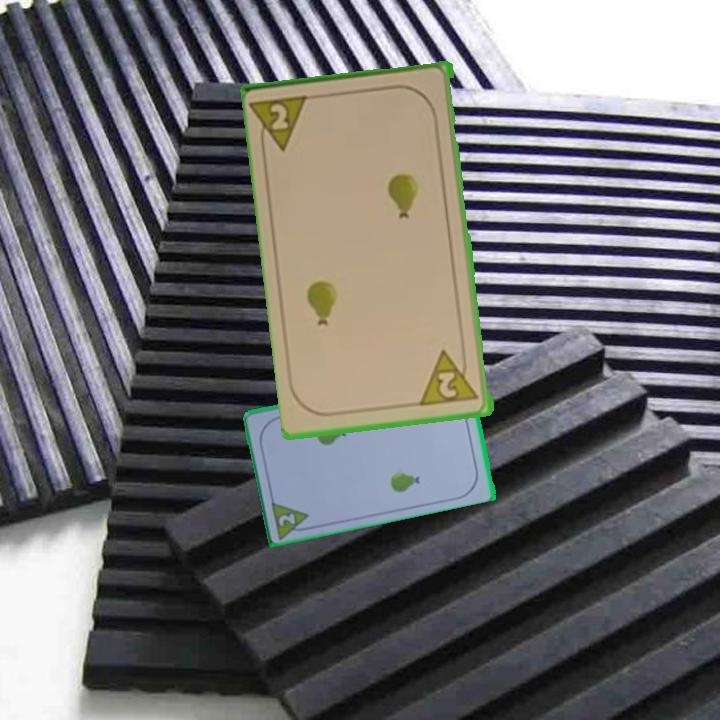2p: (250, 91, 315, 157), (418, 345, 483, 409), (268, 496, 315, 541)
